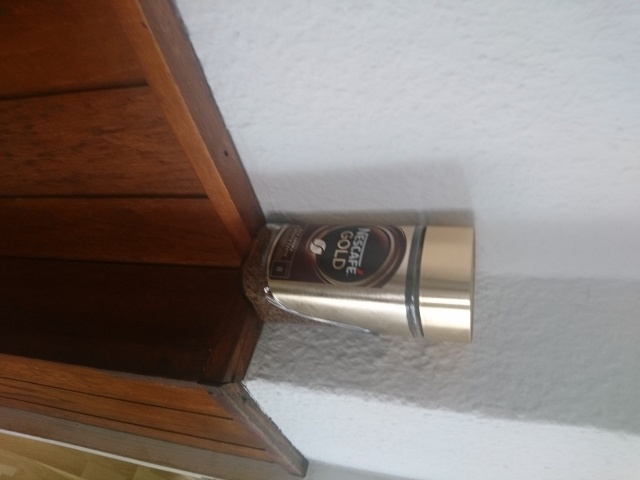Nescafe Gold 225g: (236, 219, 478, 348)
